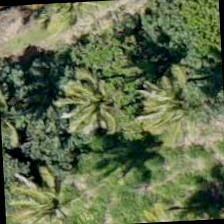Kelapa_Sawit: (49, 55, 144, 150), (130, 57, 223, 153), (7, 157, 102, 223)
